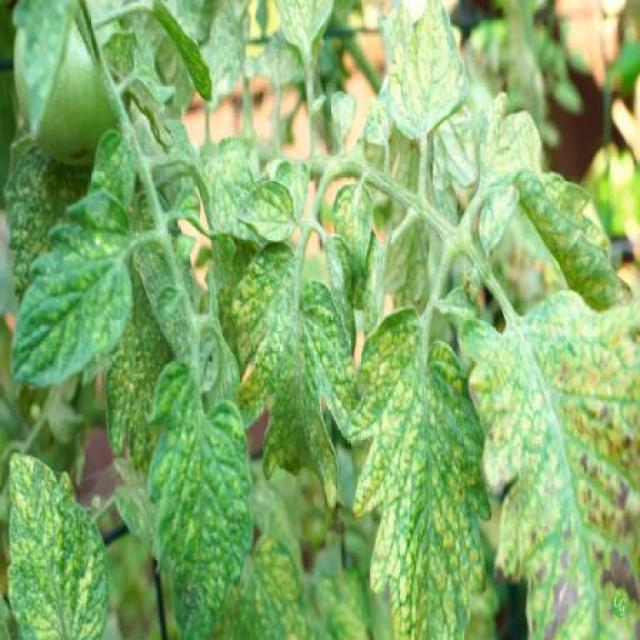Spider Mites: (455, 288, 640, 640), (347, 310, 494, 640), (476, 86, 635, 313), (230, 236, 357, 518), (146, 354, 256, 639), (6, 193, 135, 388), (3, 438, 113, 640), (389, 0, 470, 146), (332, 178, 374, 285), (234, 174, 296, 244), (478, 180, 523, 260)
